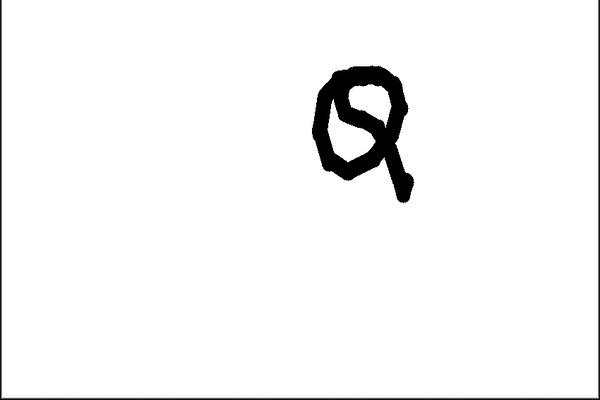Q: (300, 61, 429, 207)
